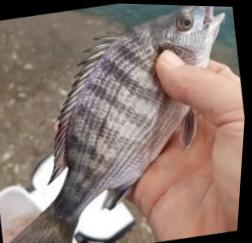fish: (13, 4, 226, 243)
